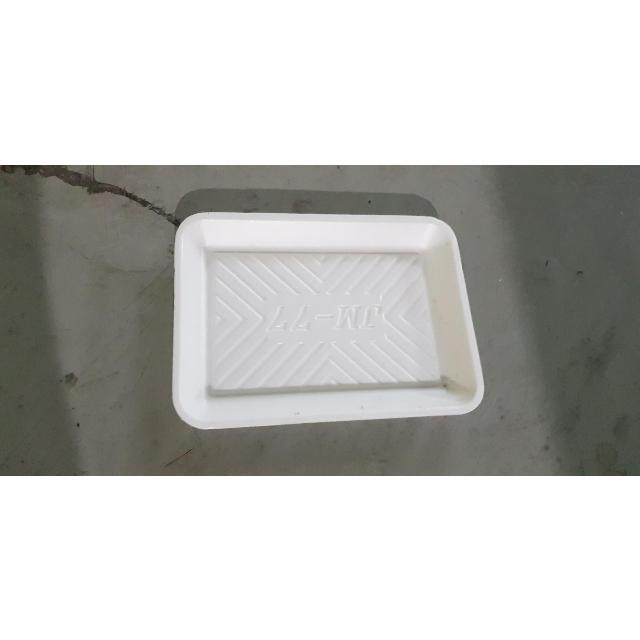Plastico descartable: (171, 212, 486, 433)
